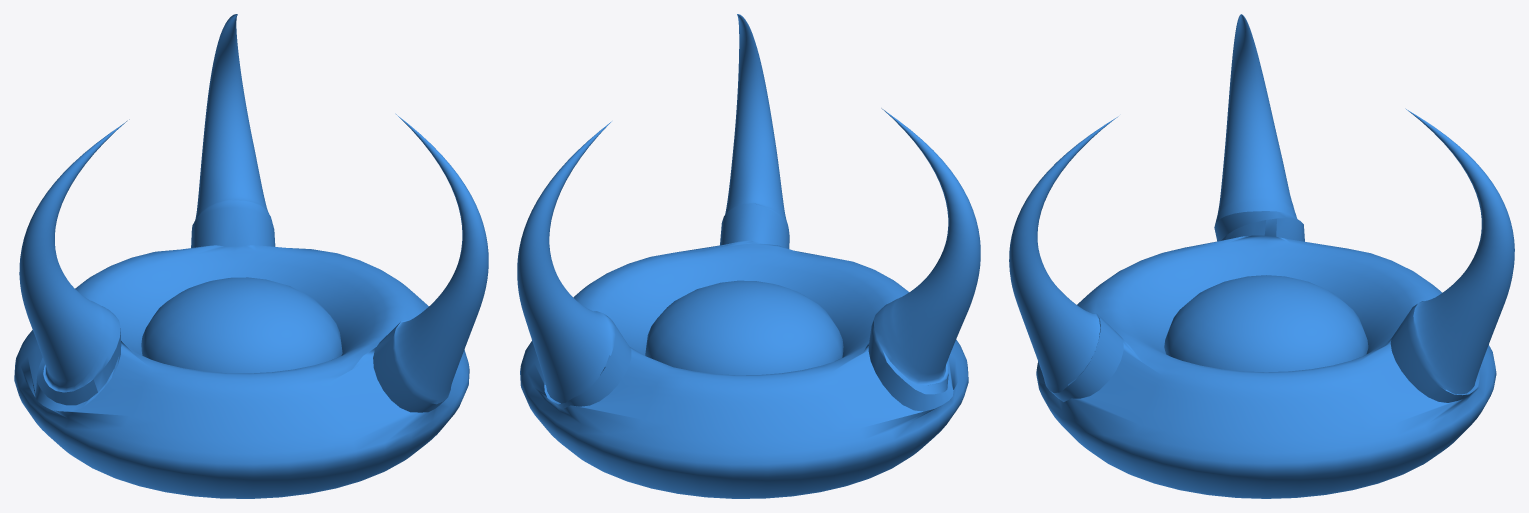
The model's file is piedbleu.fbx.
The picture shows the model from 3 angles, left to right: view 1: azimuth 30°, elevation 25°; view 2: azimuth 150°, elevation 25°; view 3: azimuth 270°, elevation 25°; orthographic projection. The views are drawn at different scales.
Visible parts, largest first — view 1: pTorus1, pSphere1; view 2: pTorus1, pSphere1; view 3: pTorus1, pSphere1.
Part boxes in pixels (x1,y1,x2,y2): pTorus1: (14, 14, 488, 498); pSphere1: (141, 277, 342, 373); pTorus1: (517, 14, 980, 498); pSphere1: (645, 280, 843, 375); pTorus1: (1009, 14, 1514, 498); pSphere1: (1164, 275, 1368, 372).
Bounding box in the file's own units: 12.56 × 9.67 × 12.8.
